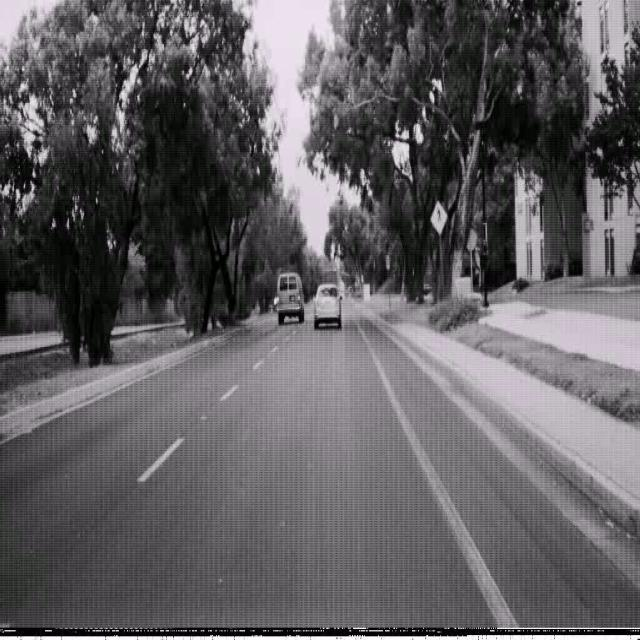pedestrianCrossing: (428, 199, 448, 234)
